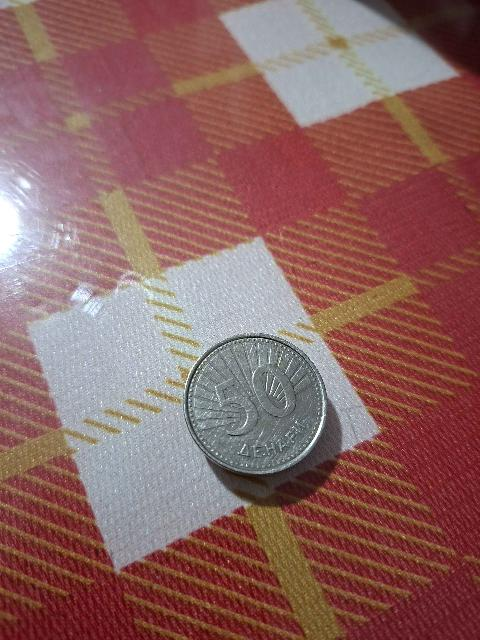50_coin: (184, 335, 326, 474)
